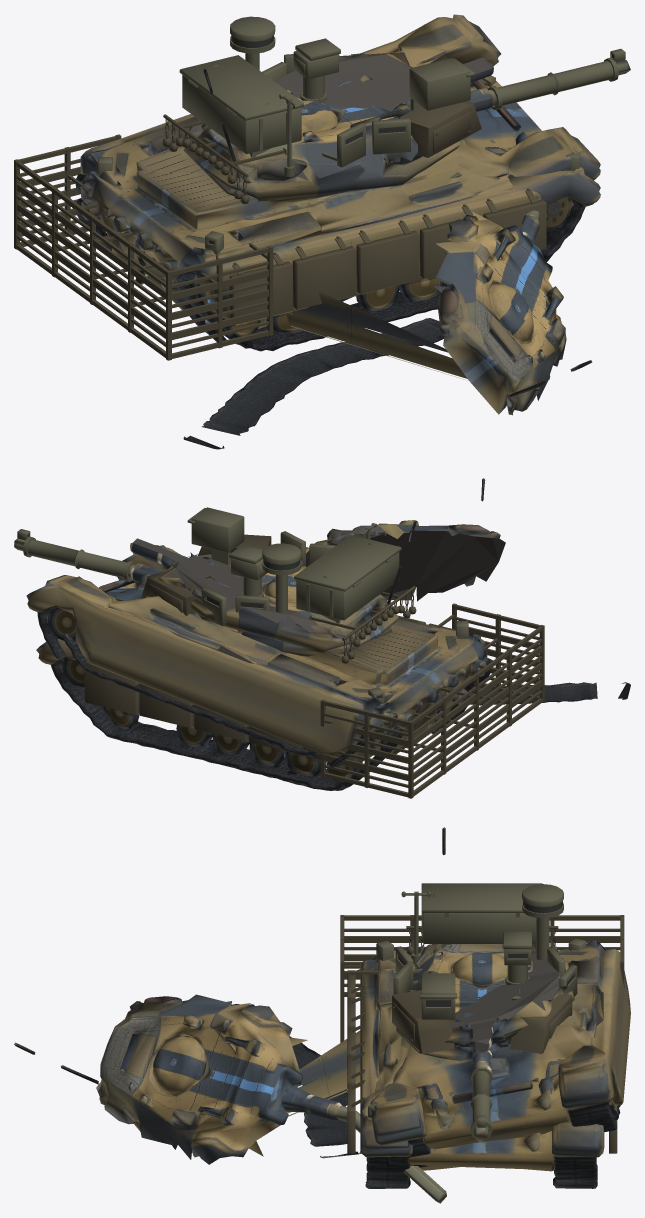
Rendered from mbt_lavi.glb.
3 views of the same model, one above another, from view 1: azimuth 30°, elevation 25°; view 2: azimuth 150°, elevation 25°; view 3: azimuth 270°, elevation 25° (orthographic). The views are drawn at different scales.
Parts seen in each view (by area): view 1: hull_hull, WRECK_hull_hull, WRECK_turret_hull, kit_armour_2_hull_hull, kit_armour_3_hull_hull, kit_firepower_3_turret_hull, turret_hull, kit_armour_3_hull_hull_far, WRECK_hull_rubber, kit_armour_3_hull_hull_near, hull_rubber, kit_firepower_2_turret_metal (+9 smaller); view 2: WRECK_hull_hull, hull_hull, WRECK_turret_hull, hull_rubber, kit_armour_3_hull_hull, kit_firepower_3_turret_hull, kit_armour_3_hull_hull_far, kit_armour_3_hull_hull_near, kit_armour_2_hull_hull, WRECK_hull_rubber, turret_hull, kit_firepower_2_turret_metal (+7 smaller); view 3: WRECK_hull_hull, WRECK_turret_hull, hull_hull, kit_firepower_3_turret_hull, turret_hull, kit_armour_1_turret_hull, WRECK_turret_metal, kit_armour_3_hull_hull, kit_armour_2_hull_hull, kit_firepower_2_turret_metal, WRECK_hull_rubber, kit_sensors_3_turret_metal (+8 smaller).
Part boxes in pixels (bbox=[...]): hull_hull: bbox=[76, 96, 600, 335]; WRECK_hull_hull: bbox=[75, 14, 600, 380]; WRECK_turret_hull: bbox=[434, 211, 566, 415]; kit_armour_2_hull_hull: bbox=[229, 188, 546, 318]; kit_armour_3_hull_hull: bbox=[14, 134, 273, 360]; kit_firepower_3_turret_hull: bbox=[179, 55, 303, 157]; turret_hull: bbox=[185, 75, 417, 184]; kit_armour_3_hull_hull_far: bbox=[17, 166, 268, 339]; WRECK_hull_rubber: bbox=[183, 296, 444, 449]; kit_armour_3_hull_hull_near: bbox=[17, 159, 268, 347]; hull_rubber: bbox=[222, 249, 553, 351]; kit_firepower_2_turret_metal: bbox=[279, 58, 475, 176]; WRECK_hull_hull: bbox=[26, 538, 468, 767]; hull_hull: bbox=[36, 572, 492, 776]; WRECK_turret_hull: bbox=[306, 520, 505, 601]; hull_rubber: bbox=[79, 702, 379, 790]; kit_armour_3_hull_hull: bbox=[320, 603, 544, 798]; kit_firepower_3_turret_hull: bbox=[294, 535, 401, 623]; kit_armour_3_hull_hull_far: bbox=[324, 625, 542, 780]; kit_armour_3_hull_hull_near: bbox=[324, 617, 542, 787]; kit_armour_2_hull_hull: bbox=[84, 615, 480, 761]; WRECK_hull_rubber: bbox=[62, 633, 630, 757]; turret_hull: bbox=[203, 556, 398, 644]; kit_firepower_2_turret_metal: bbox=[187, 507, 377, 564]; WRECK_hull_hull: bbox=[192, 940, 630, 1167]; WRECK_turret_hull: bbox=[96, 994, 307, 1164]; hull_hull: bbox=[360, 944, 604, 1178]; kit_firepower_3_turret_hull: bbox=[421, 883, 542, 948]; turret_hull: bbox=[411, 944, 536, 1046]; kit_armour_1_turret_hull: bbox=[392, 990, 572, 1053]; WRECK_turret_metal: bbox=[14, 1042, 446, 1203]; kit_armour_3_hull_hull: bbox=[340, 915, 624, 1042]; kit_armour_2_hull_hull: bbox=[347, 967, 617, 1153]; kit_firepower_2_turret_metal: bbox=[401, 891, 456, 1021]; WRECK_hull_rubber: bbox=[231, 1004, 620, 1158]; kit_sensors_3_turret_metal: bbox=[522, 884, 563, 959].
Bounding box in the file's own units: 7.27 × 3.25 × 7.31.
Materials: 1 (1 with a texture image).
